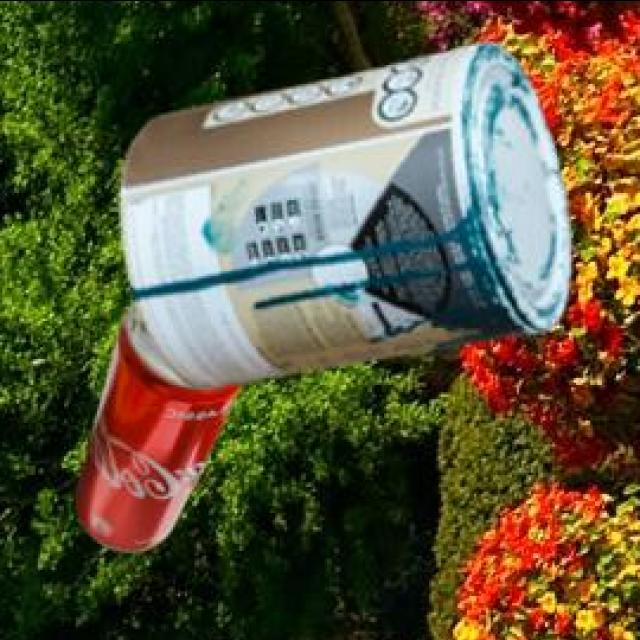logam: (117, 39, 568, 383), (72, 299, 241, 546)
